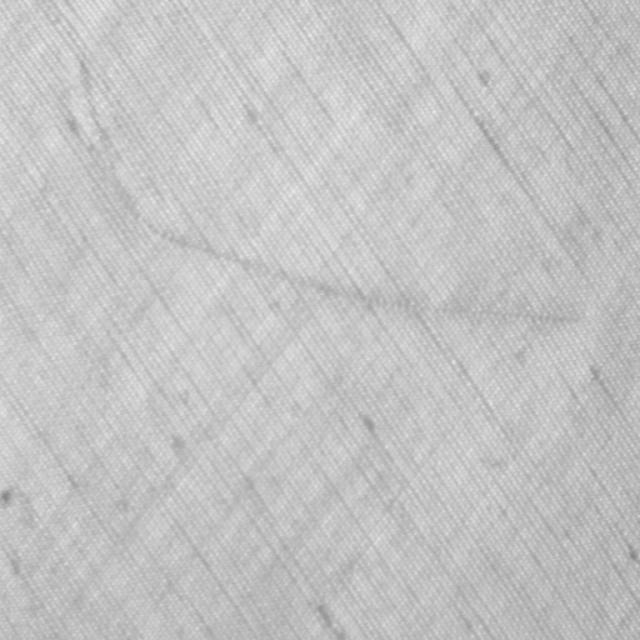objects: (61, 47, 584, 335)
